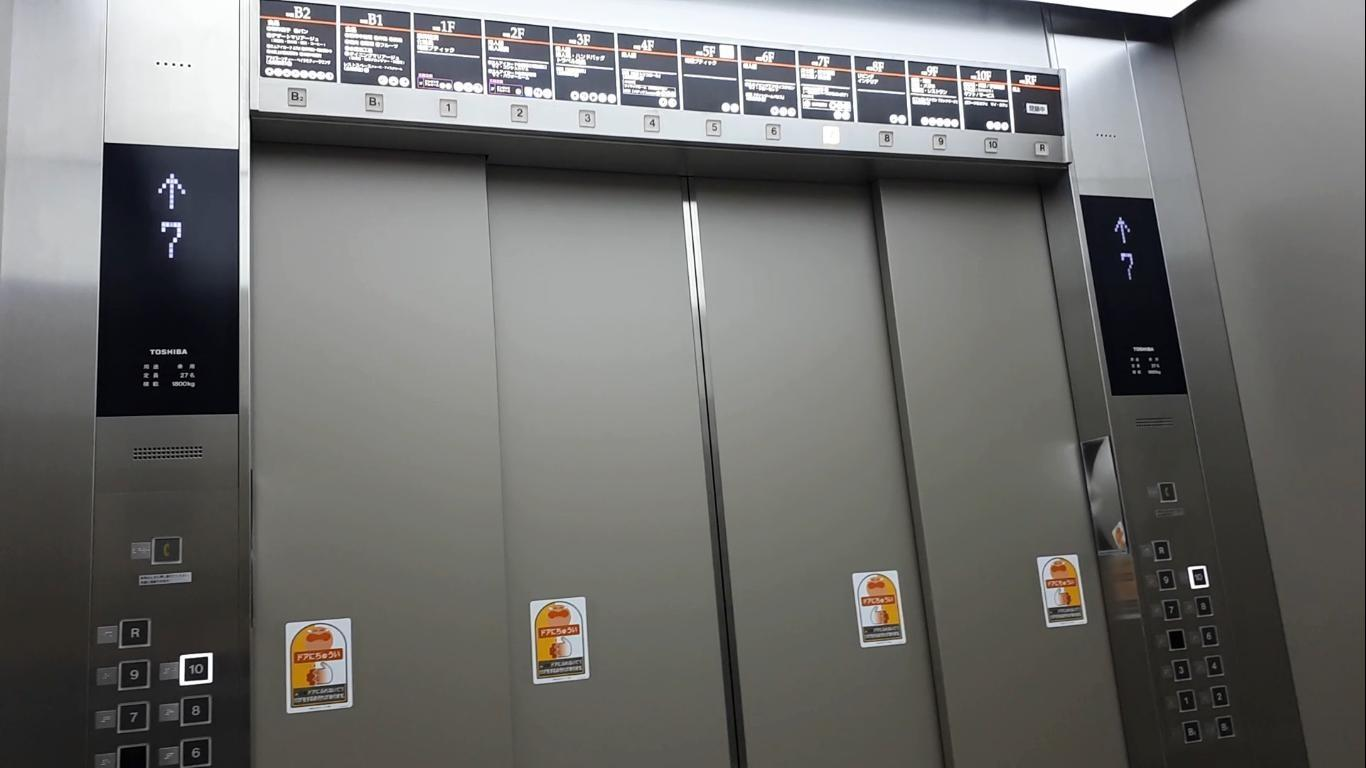1: (1175, 687, 1198, 713), (436, 95, 458, 118)
10: (176, 649, 215, 686), (1186, 564, 1210, 588), (981, 135, 1000, 154)
2: (1207, 683, 1231, 709), (508, 101, 529, 123)
3: (1169, 657, 1193, 682), (575, 107, 597, 129)
4: (1202, 653, 1225, 678), (641, 112, 661, 134)
5: (703, 117, 723, 137)
6: (180, 735, 211, 767), (1197, 623, 1221, 648), (762, 120, 782, 141)
7: (115, 700, 149, 732), (1160, 596, 1181, 622)
8: (178, 691, 212, 727), (1191, 594, 1214, 618), (876, 128, 894, 148)
9: (116, 656, 152, 691), (1155, 567, 1177, 590), (930, 132, 947, 151)
B: (1181, 720, 1202, 742), (1214, 715, 1234, 738)
B1: (362, 90, 385, 114)
B2: (285, 85, 308, 108)
call: (148, 534, 184, 565), (1155, 478, 1179, 504)
led: (92, 131, 244, 426), (1078, 183, 1197, 406)
unknown: (117, 615, 152, 648), (116, 742, 148, 767), (1149, 538, 1172, 561), (819, 122, 841, 145), (1165, 628, 1187, 650), (1031, 139, 1051, 157)
